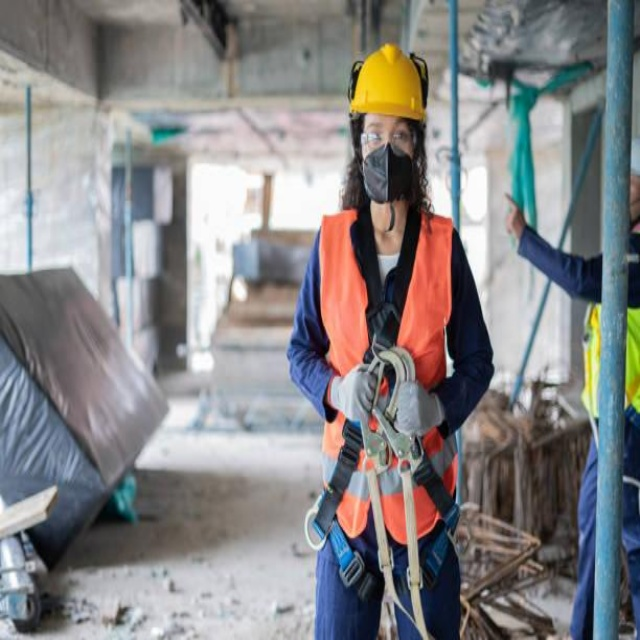Arnes_seguridad: (317, 205, 460, 573)
